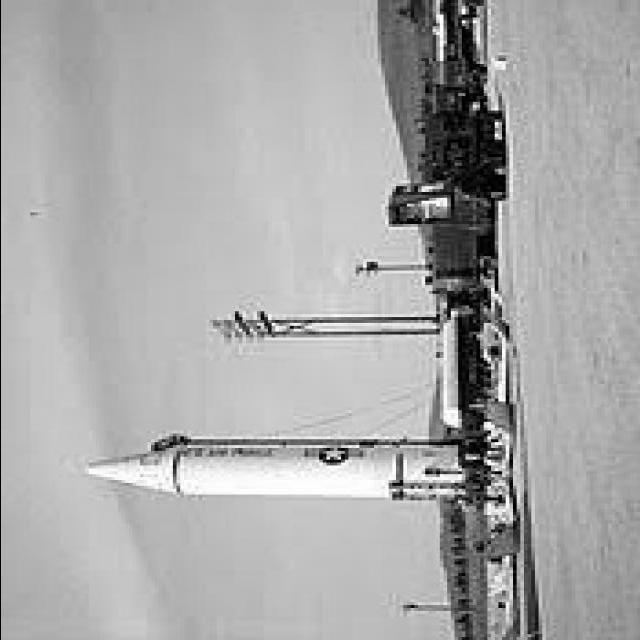Missile: (80, 439, 469, 502)
